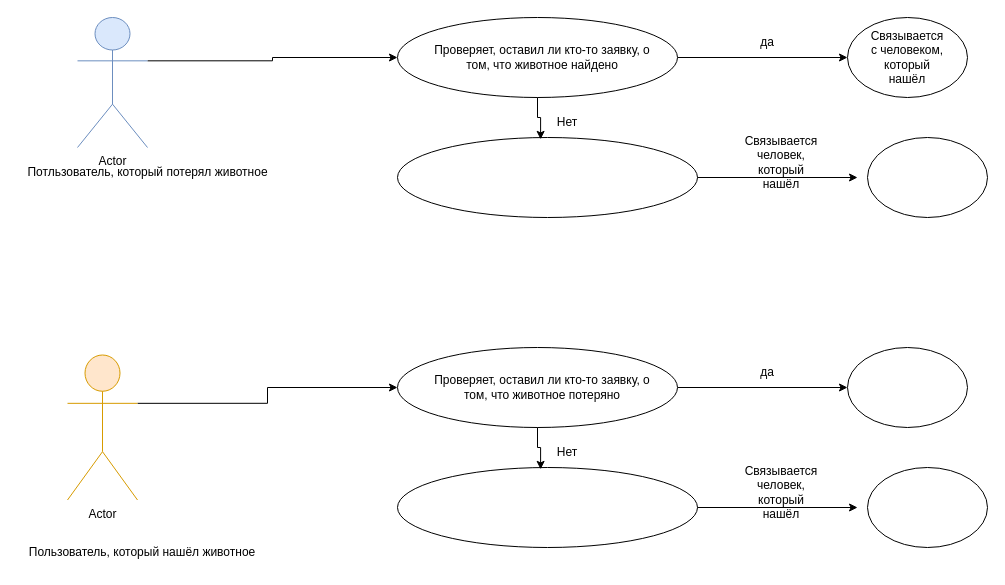
Image size: 1005x585. Some labels were removed from this diagram. Each missing label, with the box of its shape:
Оставляет объявления о найденном животном: (396, 466, 698, 548)
Оставляет обьявление о потерянном животном: (396, 136, 698, 218)
Связывается с человеком, который потерял: (846, 346, 968, 428)
